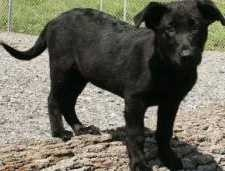dog: (25, 0, 225, 137)
